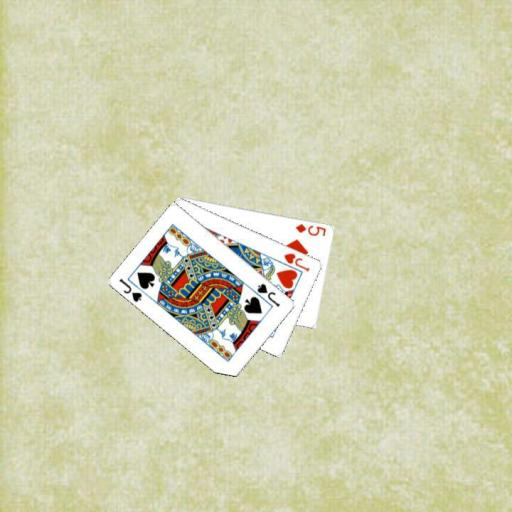5D: (293, 221, 328, 238)
JH: (281, 250, 311, 273)
JS: (116, 275, 144, 304), (254, 280, 281, 309)
